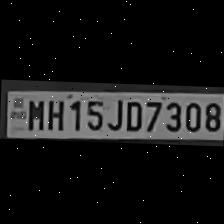0: (181, 98, 201, 130)
1: (64, 96, 82, 130)
3: (161, 97, 181, 131)
5: (82, 96, 104, 130)
7: (142, 96, 160, 130)
8: (201, 98, 221, 131)
D: (122, 96, 142, 130)
H: (44, 96, 66, 130)
J: (104, 96, 124, 130)
M: (24, 96, 44, 130)
